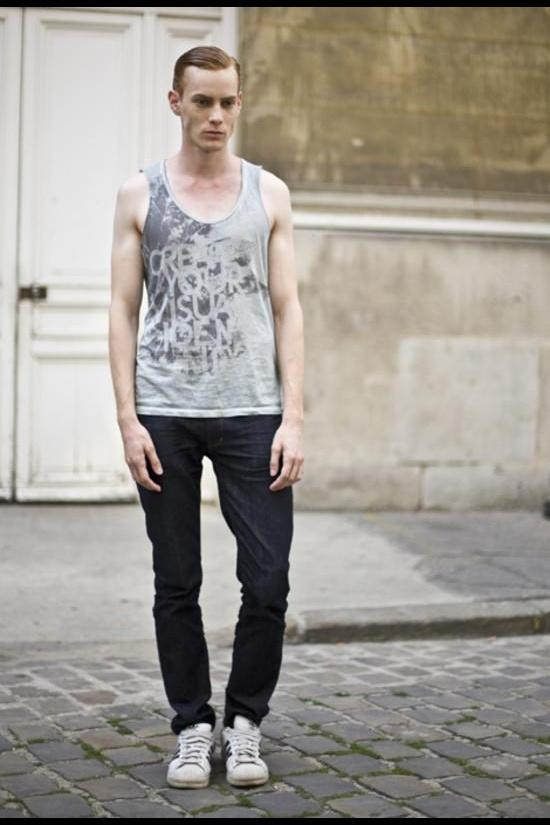Tshirt: (134, 157, 282, 418)
pants: (132, 407, 294, 732)
